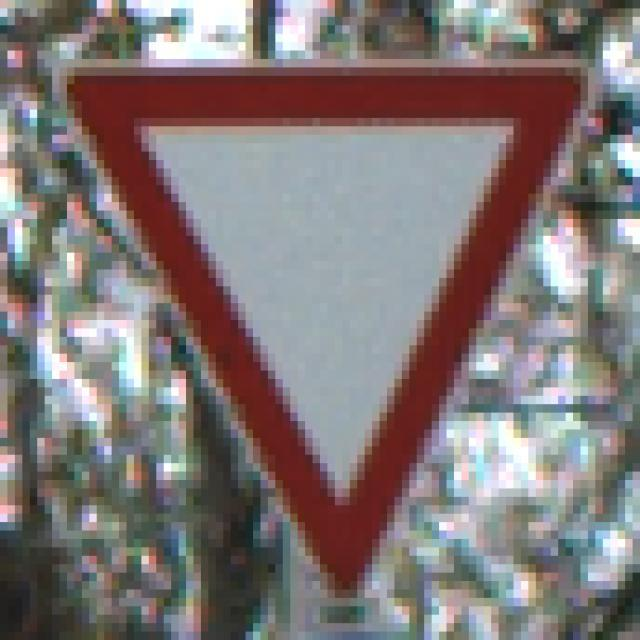give way: (46, 49, 597, 616)
